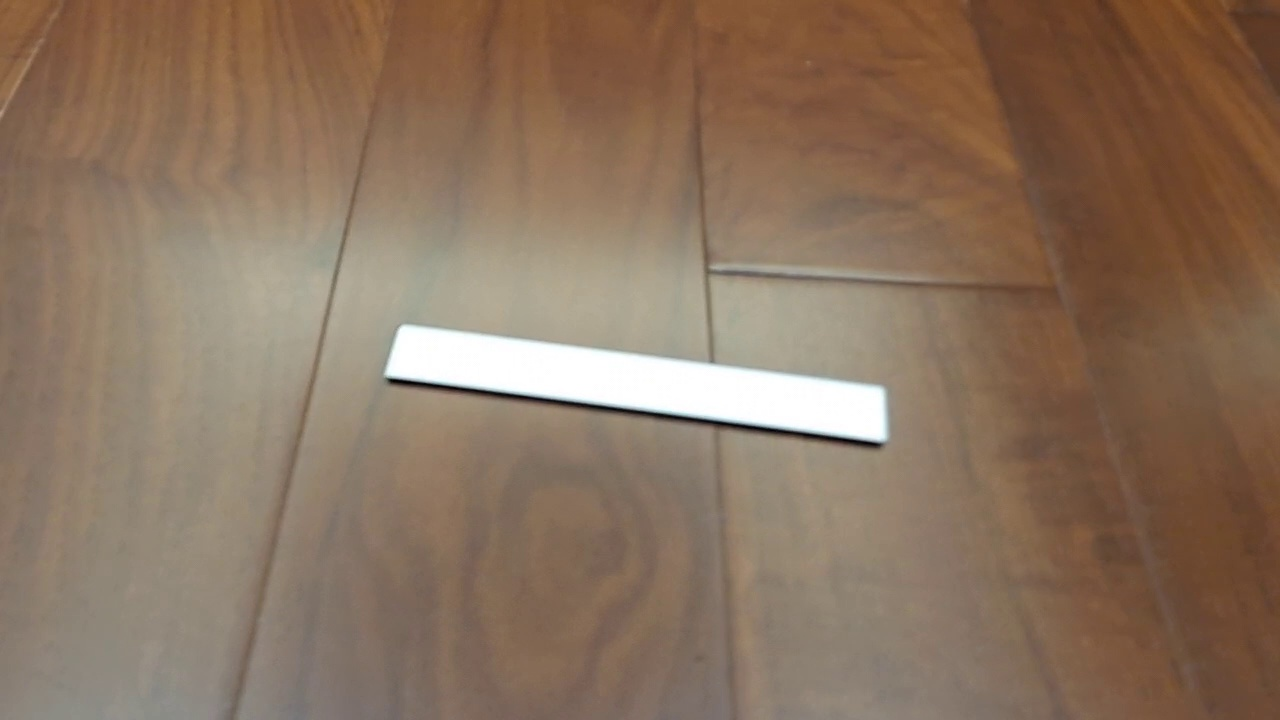ruler: (382, 321, 889, 447)
